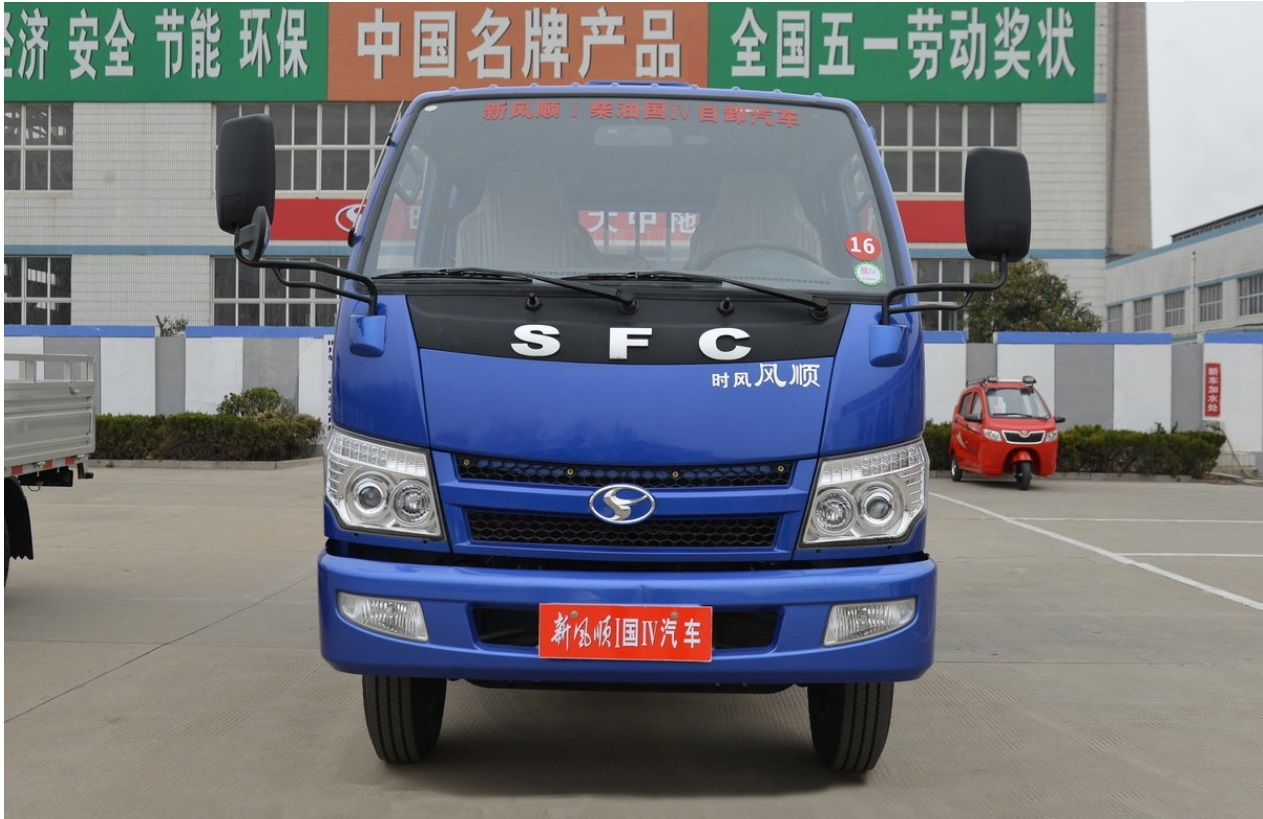truck: (228, 74, 1017, 777)
